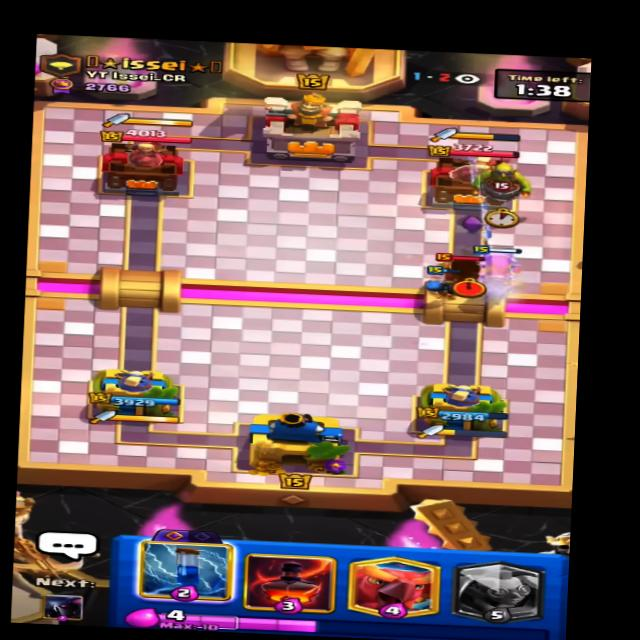goblin-demolisher: (469, 156, 535, 212)
